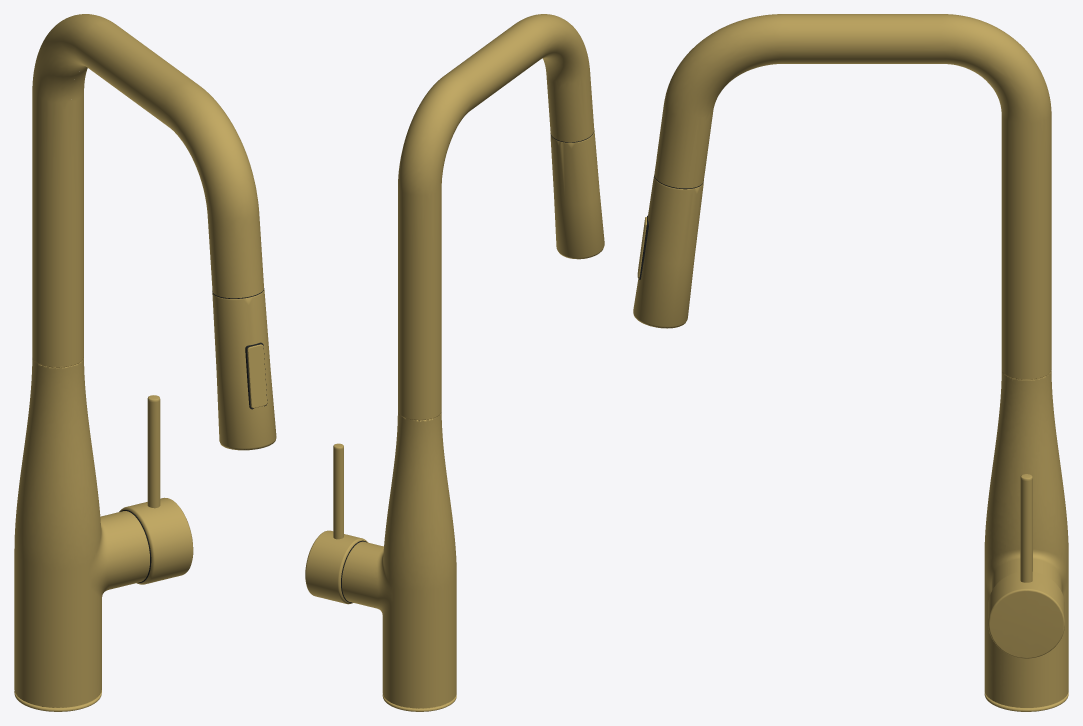
File: torneira-smooth-oro.glb
The picture shows the model from 3 angles, left to right: view 1: azimuth 30°, elevation 25°; view 2: azimuth 150°, elevation 25°; view 3: azimuth 270°, elevation 25°; orthographic projection. The views are drawn at different scales.
Parts seen in each view (by area): view 1: Smooth · tubo de cantos arredondados, Smooth · corpo afunilado e ligação do comando, Corpo da bica extraível, Smooth · comando lateral, Smooth · pega vertical, Botão da bica; view 2: Smooth · tubo de cantos arredondados, Smooth · corpo afunilado e ligação do comando, Corpo da bica extraível, Smooth · comando lateral, Smooth · pega vertical; view 3: Smooth · tubo de cantos arredondados, Smooth · corpo afunilado e ligação do comando, Corpo da bica extraível, Smooth · comando lateral, Smooth · pega vertical.
Boxes of the visible parts, box(x1,y1,x2,y2) form: Smooth · tubo de cantos arredondados: box(32, 14, 263, 366); Smooth · corpo afunilado e ligação do comando: box(14, 358, 149, 707); Corpo da bica extraível: box(212, 290, 276, 450); Smooth · comando lateral: box(119, 497, 193, 584); Smooth · pega vertical: box(147, 395, 160, 508); Botão da bica: box(247, 344, 267, 408); Smooth · tubo de cantos arredondados: box(398, 14, 594, 419); Smooth · corpo afunilado e ligação do comando: box(342, 412, 456, 708); Corpo da bica extraível: box(550, 130, 604, 259); Smooth · comando lateral: box(305, 530, 367, 604); Smooth · pega vertical: box(333, 443, 343, 539); Smooth · tubo de cantos arredondados: box(654, 14, 1051, 379); Smooth · corpo afunilado e ligação do comando: box(984, 370, 1068, 707); Corpo da bica extraível: box(633, 175, 703, 328); Smooth · comando lateral: box(988, 571, 1064, 658); Smooth · pega vertical: box(1020, 474, 1032, 582).
Bounding box in the file's own units: 0.0997 × 0.435 × 0.2532.
